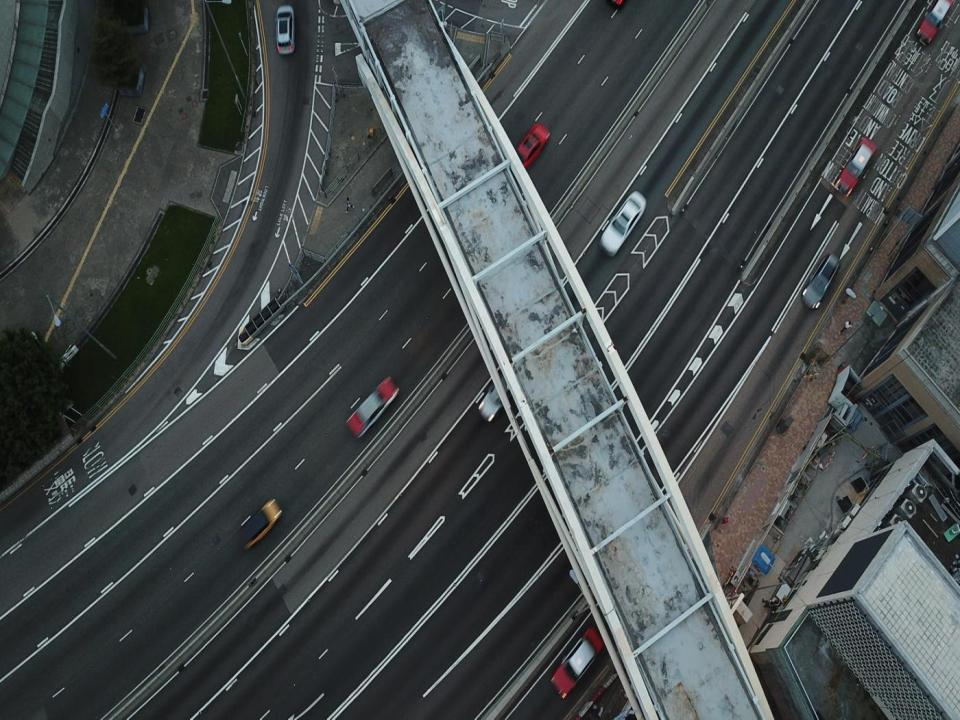car: (552, 627, 603, 698), (347, 374, 400, 438), (599, 189, 647, 256), (836, 134, 877, 200), (479, 368, 523, 422), (504, 124, 551, 172), (802, 252, 840, 311), (241, 499, 284, 548), (916, 0, 954, 46), (275, 5, 296, 56)
